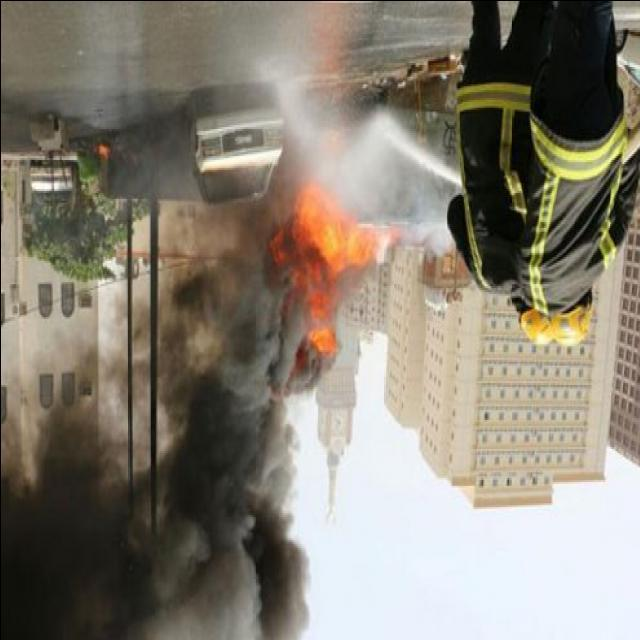Fire: (261, 178, 397, 384)
